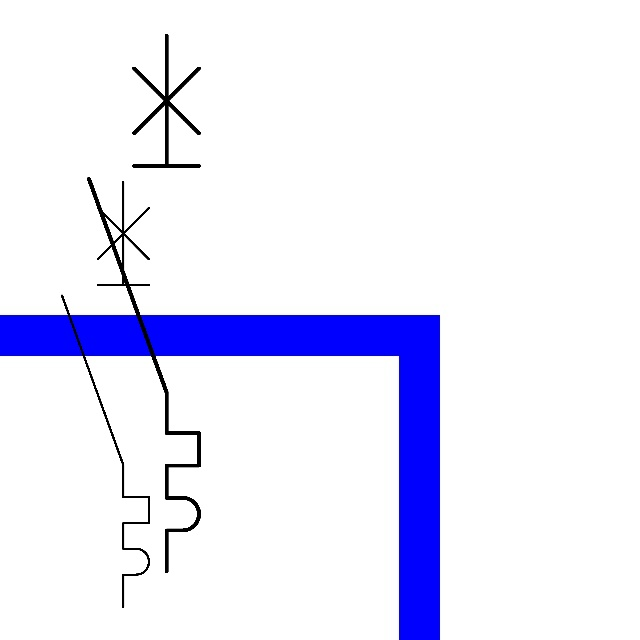interruptor_termomagnetico: (75, 22, 213, 585), (51, 171, 160, 618)
